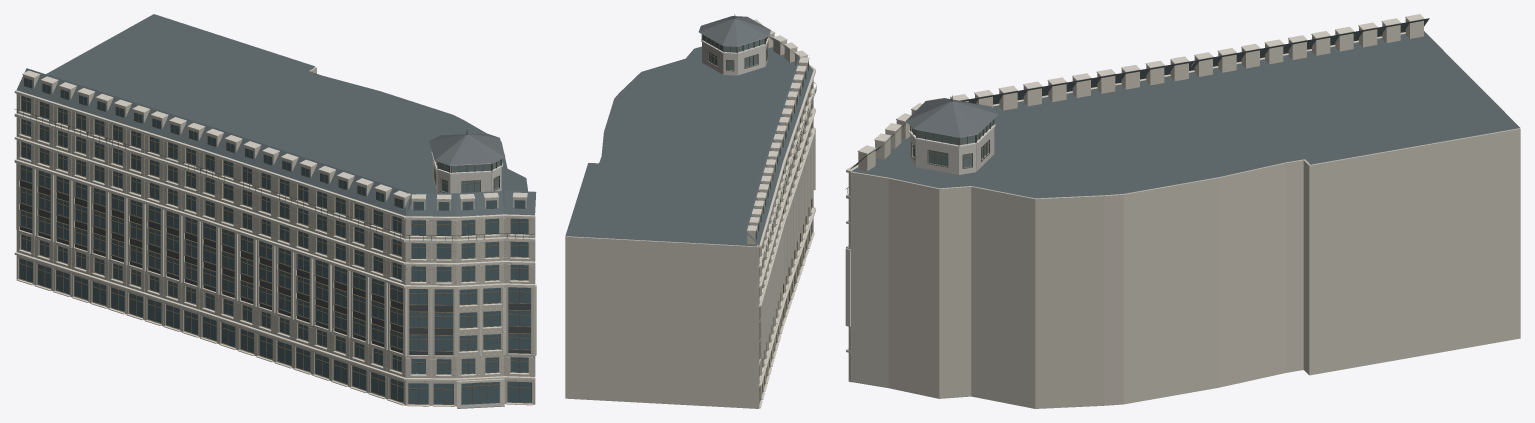
The model's file is 61a-exterior-a65595f12597.glb.
3 renders of one model, left to right at view 1: azimuth 30°, elevation 25°; view 2: azimuth 150°, elevation 25°; view 3: azimuth 270°, elevation 25°, orthographic. The views are drawn at different scales.
Parts seen in each view (by area): view 1: 61A.001; view 2: 61A.001; view 3: 61A.001.
Boxes of the visible parts, x1,y1,x2,y2 form: 61A.001: [14, 14, 536, 408]; 61A.001: [565, 14, 816, 408]; 61A.001: [845, 14, 1520, 408].
Size of the model in its own units: 51.25 by 38.48 by 85.72.
